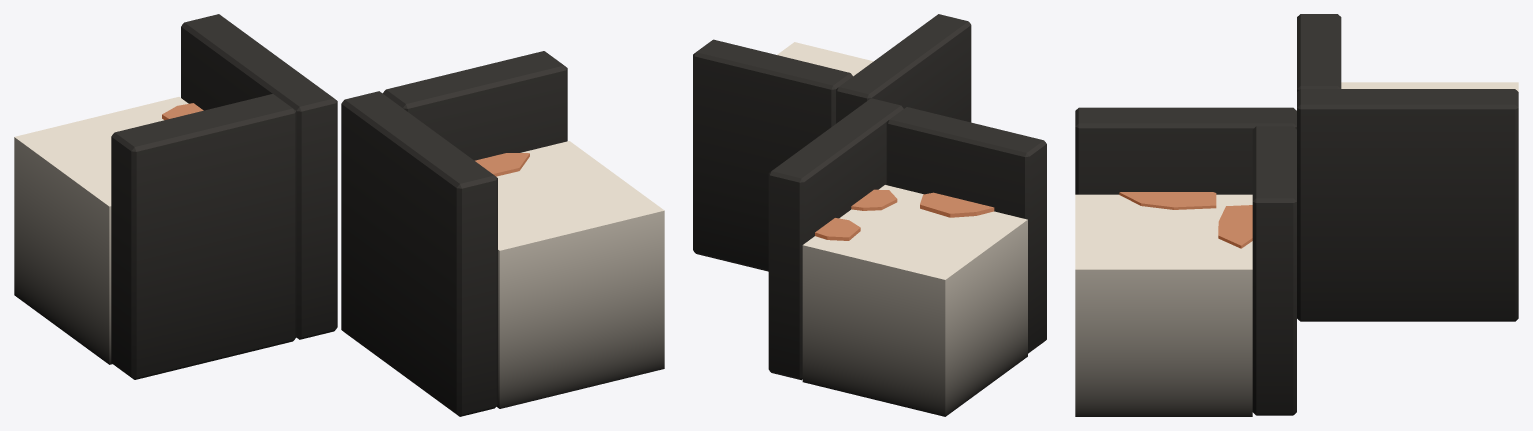
The model's file is SM_VKI_Ground_Lava_OXOX.fbx.
The picture shows the model from 3 angles, left to right: view 1: azimuth 30°, elevation 25°; view 2: azimuth 150°, elevation 25°; view 3: azimuth 270°, elevation 25°; orthographic projection. The views are drawn at different scales.
Parts seen in each view (by area): view 1: SM_VKI_Ground_Lava_OXOX.001; view 2: SM_VKI_Ground_Lava_OXOX.001; view 3: SM_VKI_Ground_Lava_OXOX.001.
Part boxes in pixels (<box>): SM_VKI_Ground_Lava_OXOX.001: <box>14,14,664,416</box>; SM_VKI_Ground_Lava_OXOX.001: <box>693,14,1046,416</box>; SM_VKI_Ground_Lava_OXOX.001: <box>1075,14,1518,416</box>.
Bounding box in the file's own units: 1.5 × 0.81 × 1.5.
